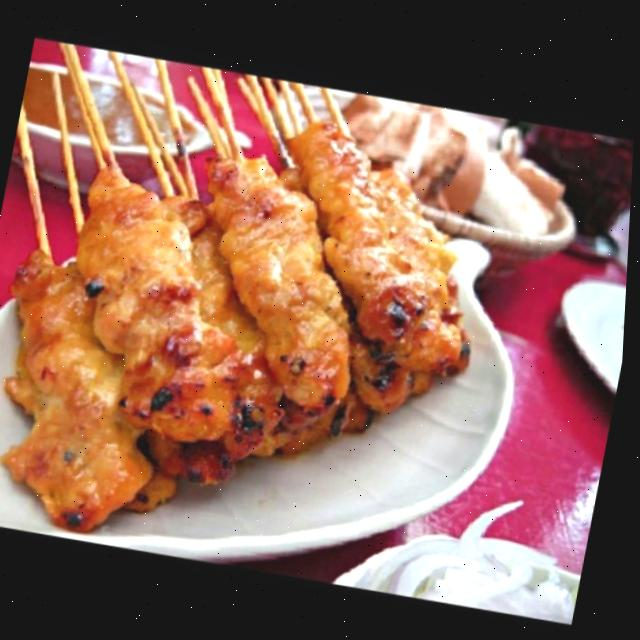牛肉菜式: (0, 40, 562, 597)
